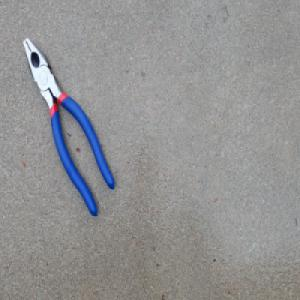Pliers: (22, 35, 115, 218)
